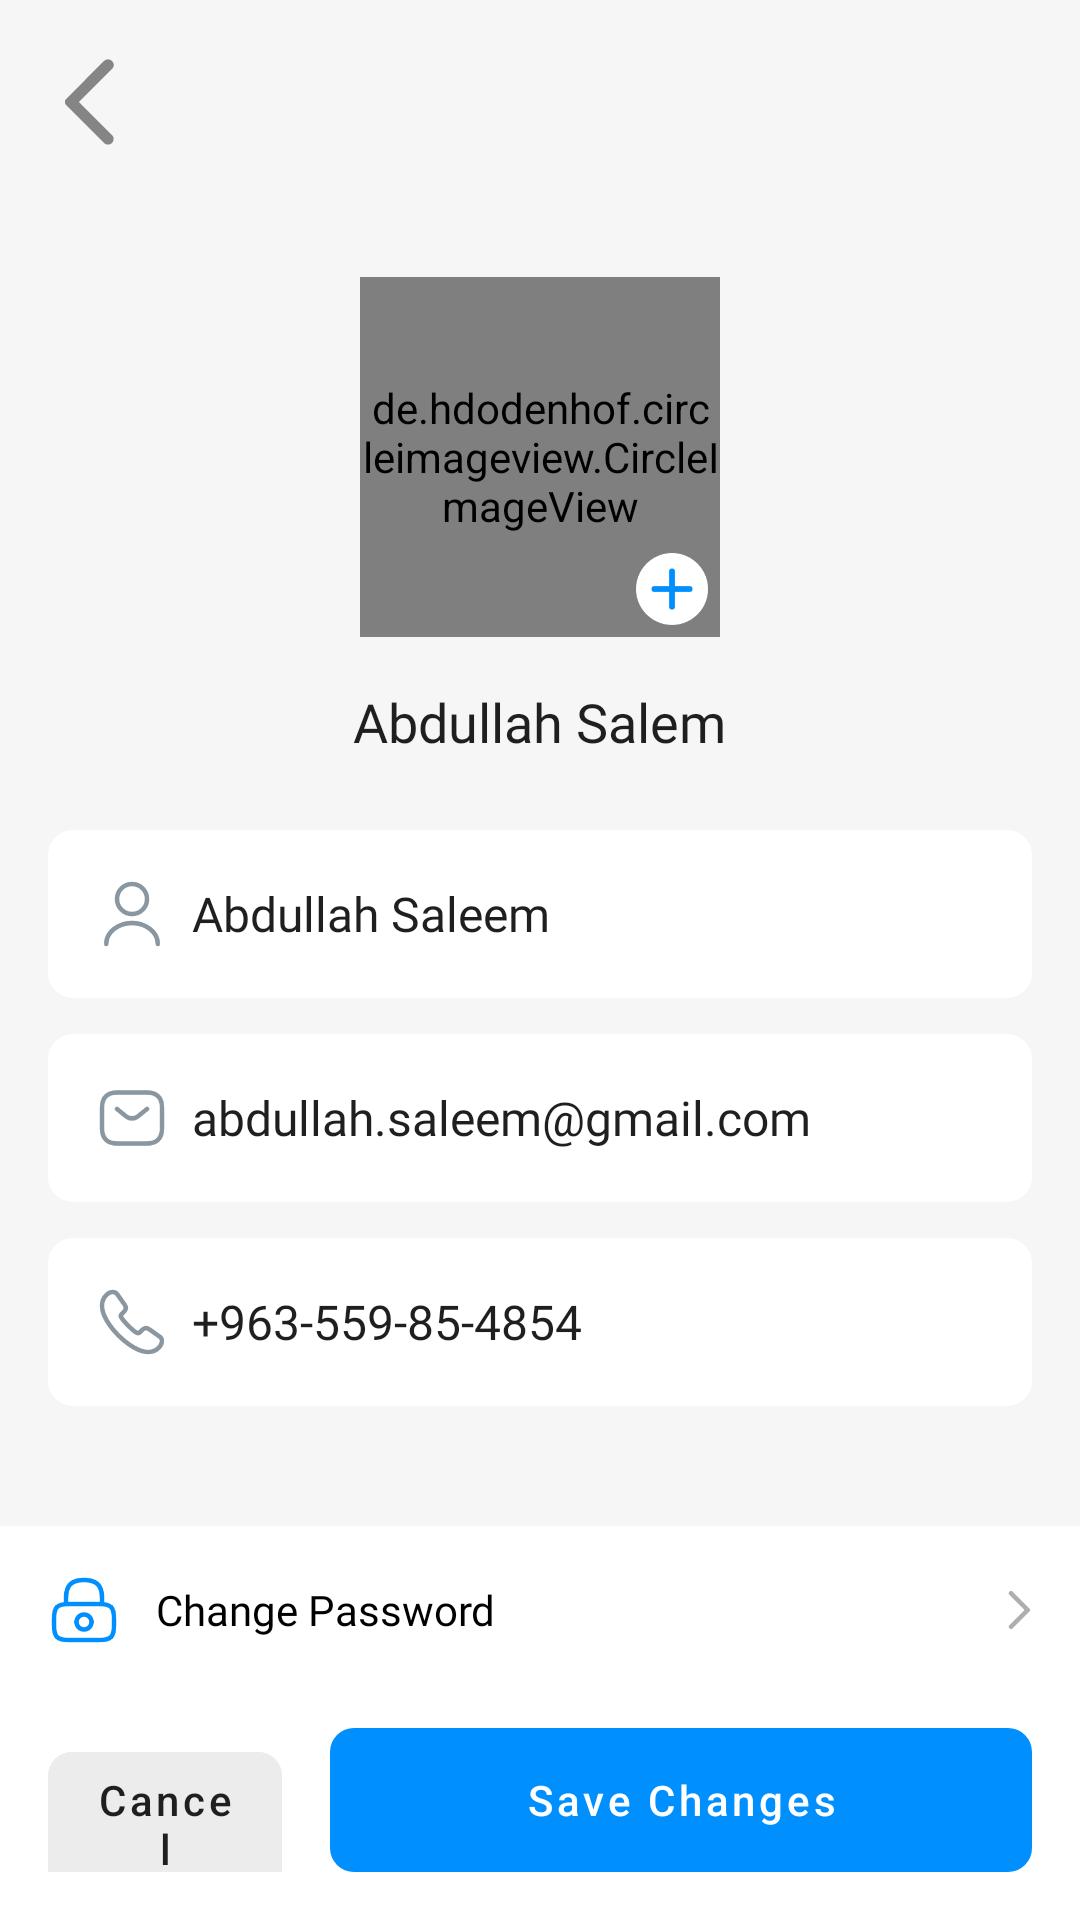

Where icons sit on this 1080 × 1920 app screen, as (x1, y1, x2, y2):
add: (636, 553, 708, 625)
back: (65, 59, 114, 145)
